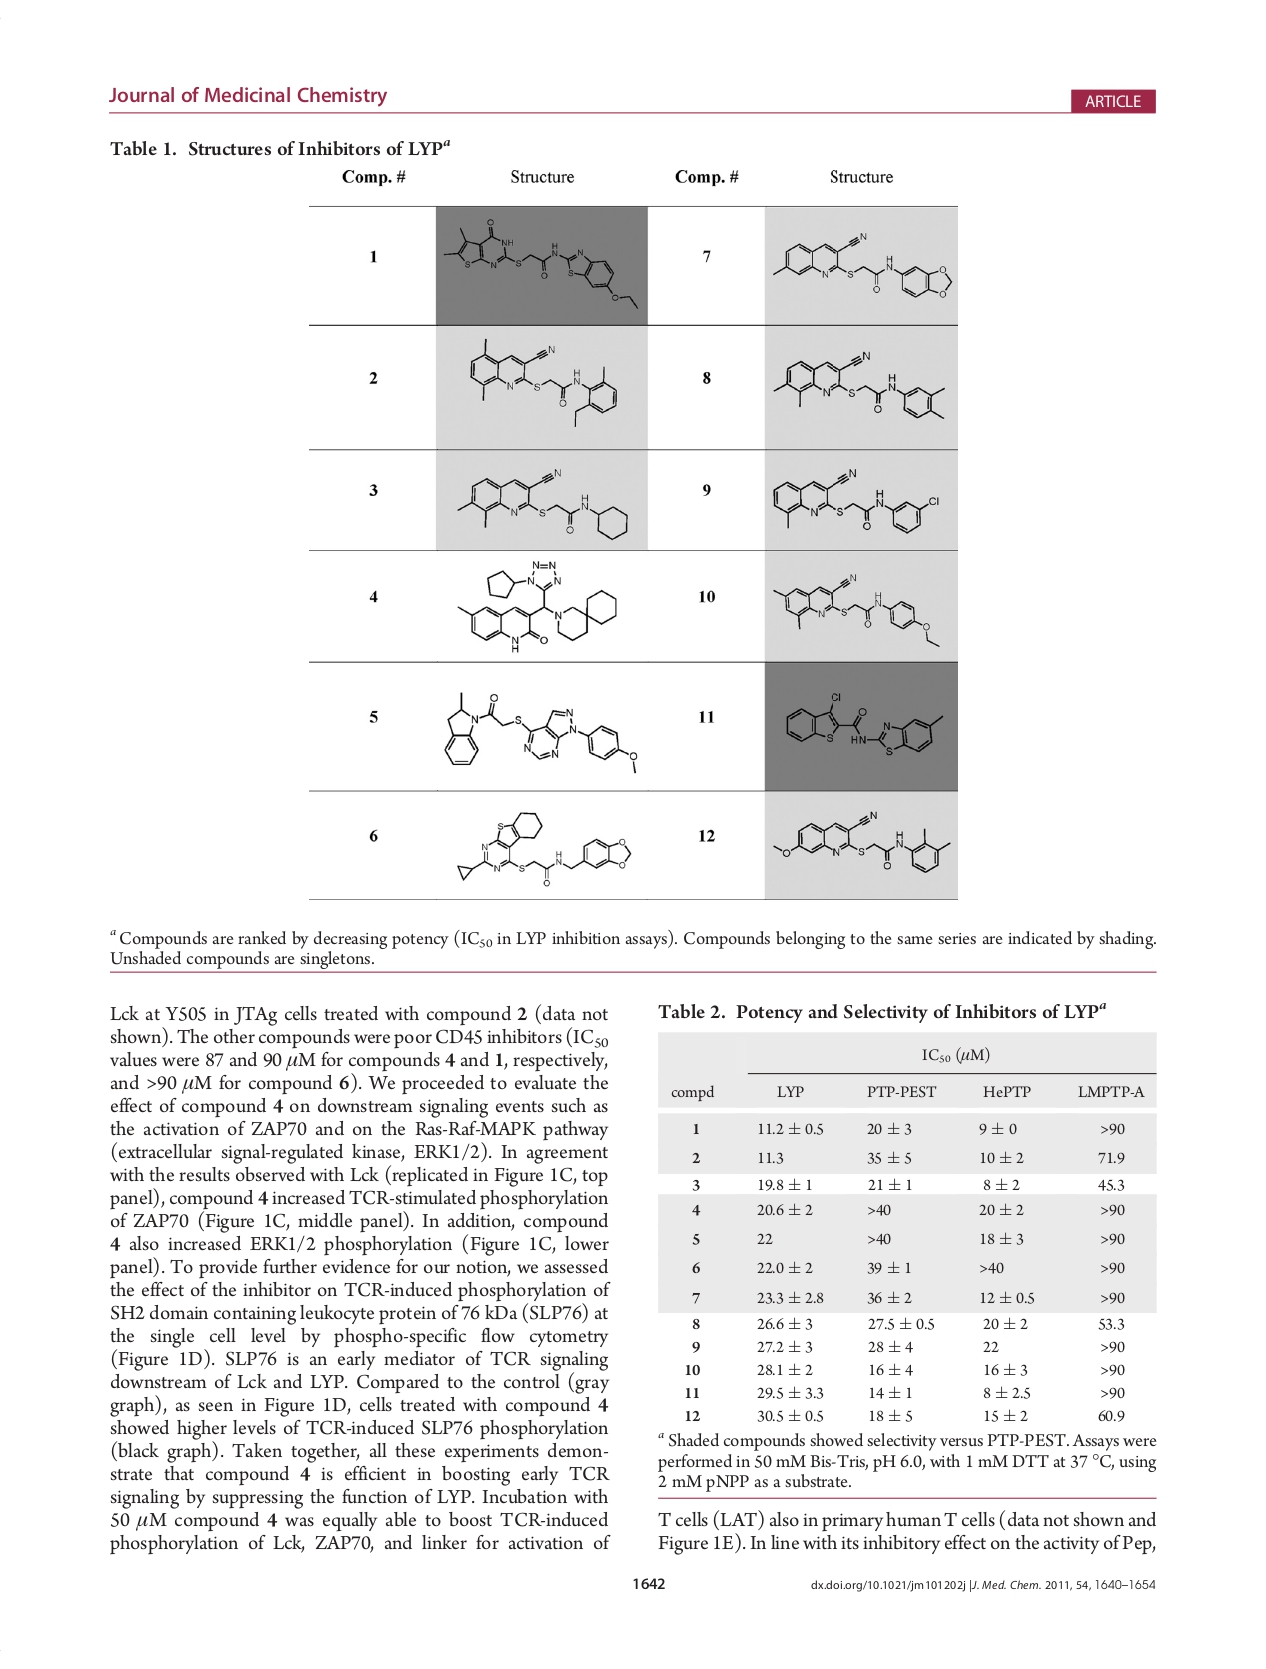exist_molecular: (440, 211, 642, 317), (442, 688, 641, 774), (453, 557, 620, 653), (773, 342, 948, 430), (769, 229, 953, 309), (467, 332, 620, 427), (453, 809, 633, 886), (452, 465, 630, 543), (773, 572, 942, 648), (770, 465, 940, 539), (771, 809, 953, 875), (782, 690, 947, 759)
